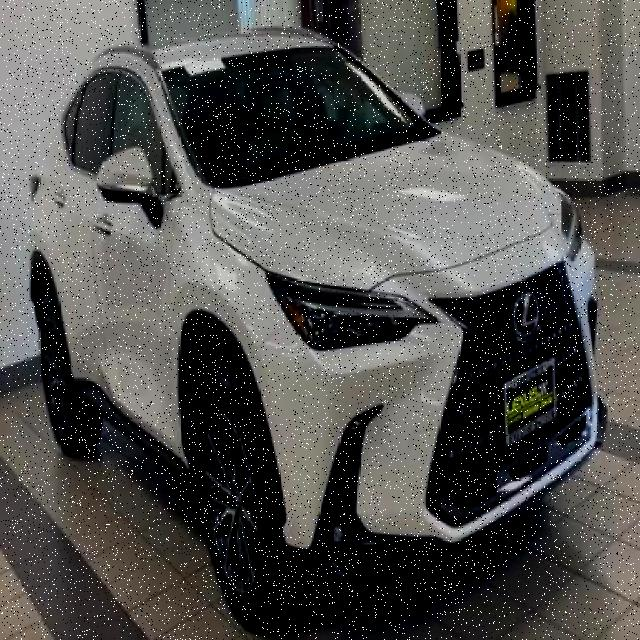licenseplate: (504, 358, 557, 445)
